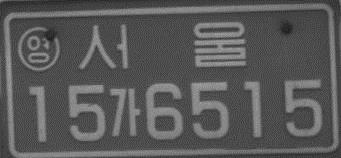1: (22, 82, 52, 146), (240, 79, 265, 139)
5: (65, 80, 108, 143), (189, 80, 231, 140), (282, 78, 322, 137)
6: (143, 79, 185, 142)
가: (108, 85, 141, 141)
서울_D: (75, 18, 248, 73)
영: (17, 24, 62, 72)
